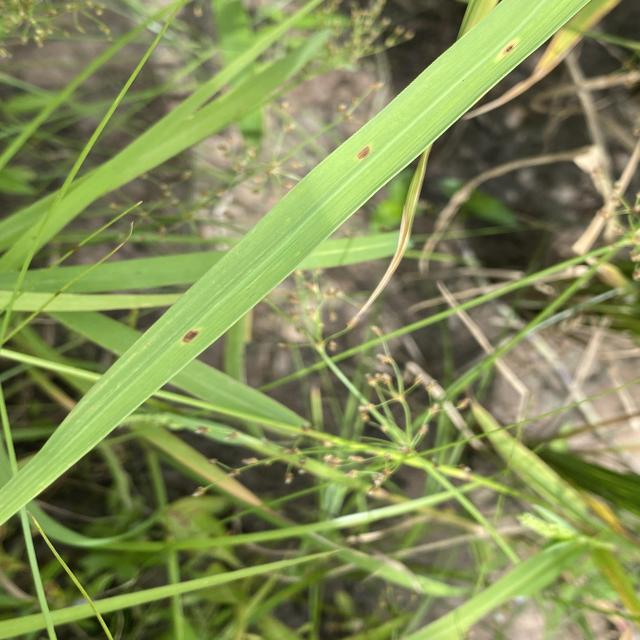Dom nau: (180, 327, 201, 346), (354, 145, 373, 161), (503, 44, 516, 55)
